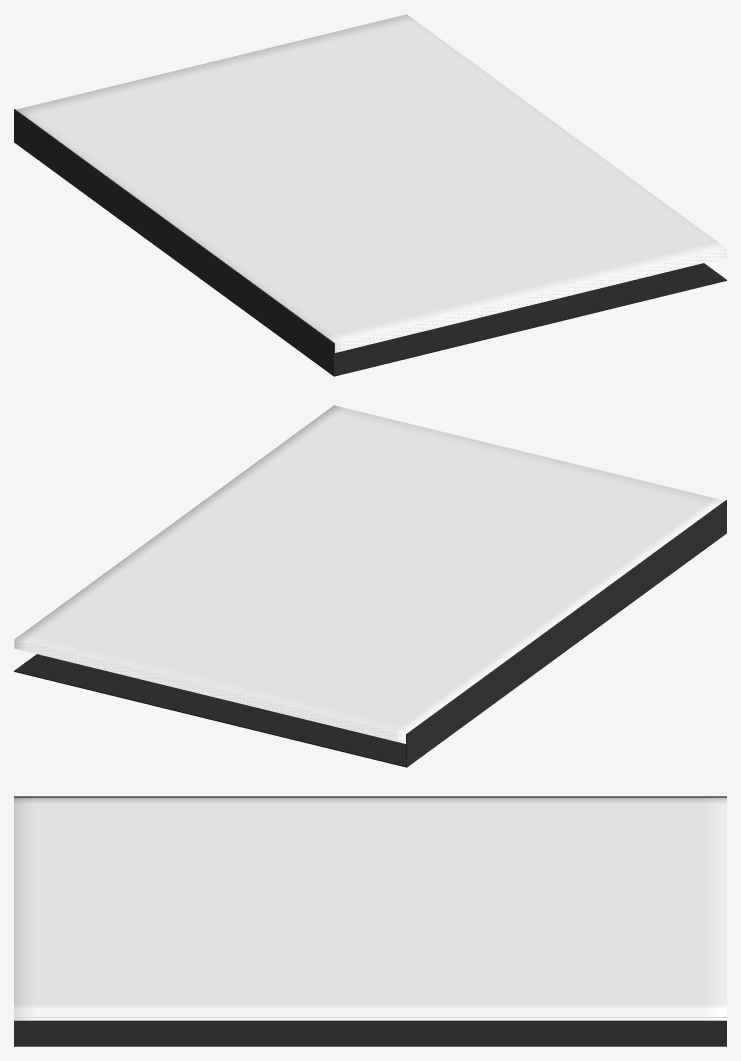
Rendered from bookV3.fbx.
3 views of the same model, one above another, from view 1: azimuth 30°, elevation 25°; view 2: azimuth 150°, elevation 25°; view 3: azimuth 270°, elevation 25° (orthographic). The views are drawn at different scales.
Parts seen in each view (by area): view 1: page1, Plane, Plane.001, page3, page2, page4, page10, page5, page9, page6, page8, page7; view 2: page1, Plane, Plane.001, page3, page2, page4, page10, page5, page9, page6, page8, page7; view 3: page1, Plane.001, page4, page5, page6, page7, page8, page9, page10, Plane, page2, page3.
Part boxes in pixels (left/top/right/bottom): page1: left=16, top=14, right=726, bottom=344; Plane: left=14, top=109, right=334, bottom=376; Plane.001: left=335, top=263, right=726, bottom=376; page3: left=335, top=250, right=726, bottom=346; page2: left=335, top=249, right=726, bottom=345; page4: left=335, top=251, right=726, bottom=346; page10: left=335, top=257, right=726, bottom=352; page5: left=335, top=252, right=726, bottom=347; page9: left=335, top=256, right=726, bottom=351; page6: left=335, top=253, right=726, bottom=348; page8: left=335, top=255, right=726, bottom=350; page7: left=335, top=254, right=726, bottom=349; page1: left=14, top=405, right=724, bottom=735; Plane: left=406, top=500, right=726, bottom=767; Plane.001: left=14, top=654, right=405, bottom=767; page3: left=14, top=641, right=405, bottom=737; page2: left=14, top=640, right=405, bottom=736; page4: left=14, top=642, right=405, bottom=737; page10: left=14, top=648, right=405, bottom=743; page5: left=14, top=643, right=405, bottom=738; page9: left=14, top=647, right=405, bottom=742; page6: left=14, top=644, right=405, bottom=739; page8: left=14, top=646, right=405, bottom=741; page7: left=14, top=645, right=405, bottom=740; page1: left=14, top=797, right=726, bottom=1010; Plane.001: left=14, top=1020, right=726, bottom=1046; page4: left=14, top=1013, right=726, bottom=1014; page5: left=14, top=1014, right=726, bottom=1015; page6: left=14, top=1015, right=726, bottom=1016; page7: left=14, top=1016, right=726, bottom=1017; page8: left=14, top=1017, right=726, bottom=1018; page9: left=14, top=1018, right=726, bottom=1019; page10: left=14, top=1019, right=726, bottom=1020; Plane: left=14, top=796, right=726, bottom=797; page2: left=14, top=1011, right=726, bottom=1011; page3: left=14, top=1012, right=726, bottom=1012.
Bounding box in the file's own units: 421 × 34 × 594.
Materials: 1 (1 with a texture image).
